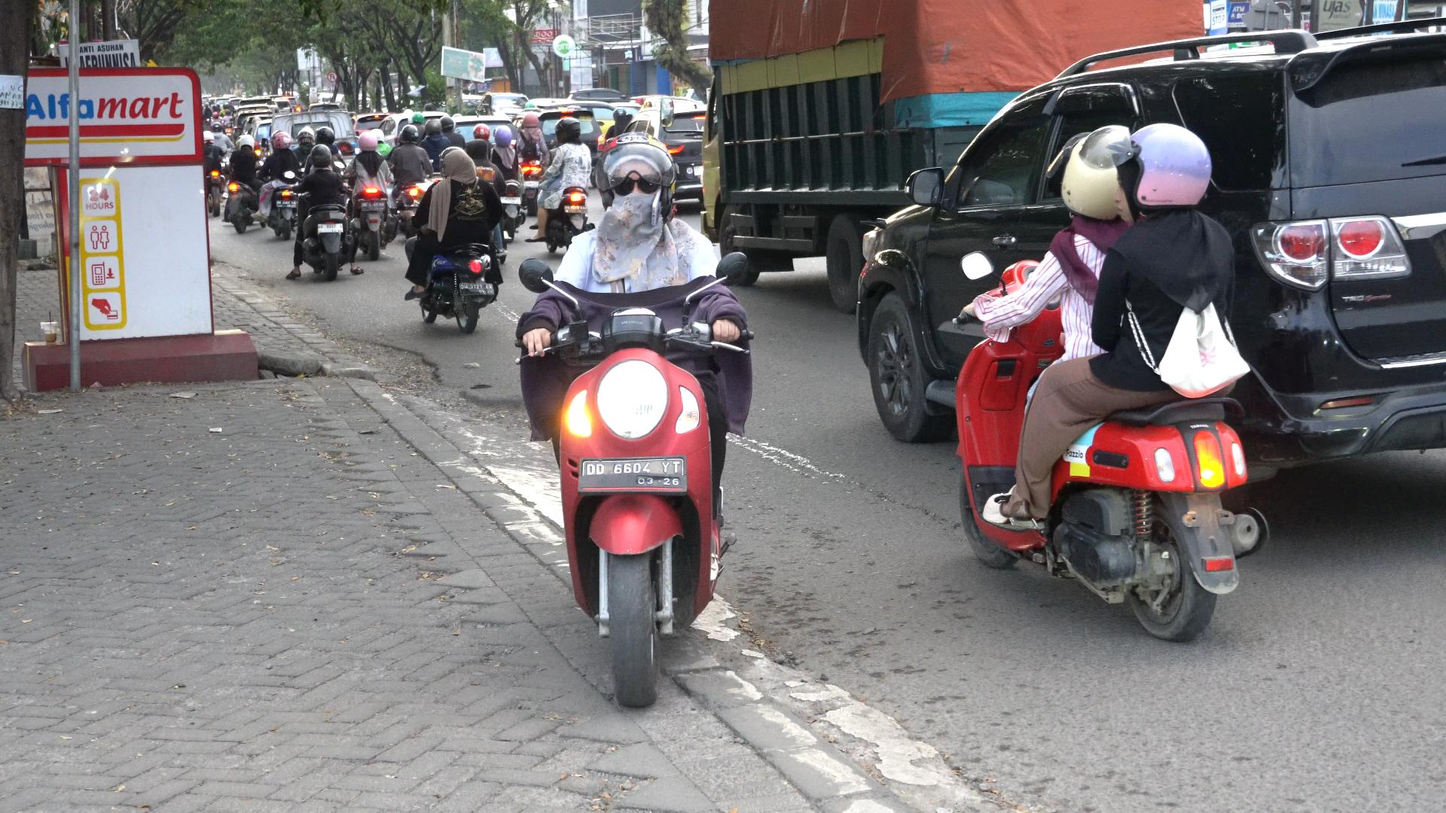number-plate: (580, 453, 688, 495)
